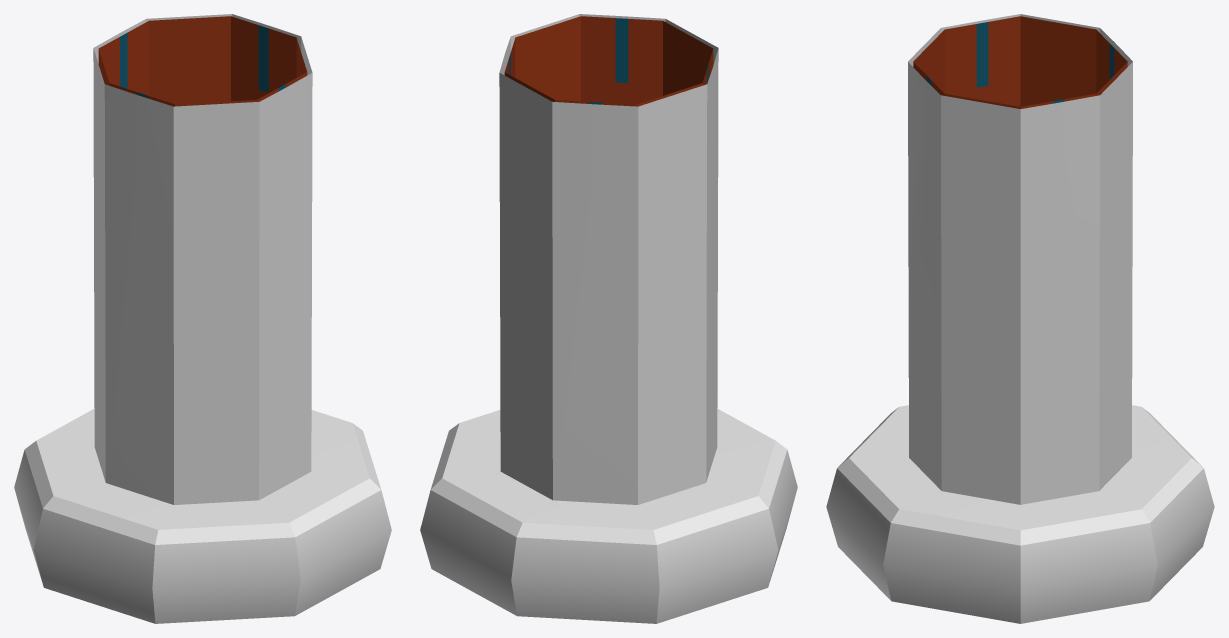
The model's file is Pilar_0A.fbx.
3 views of the same model, side by side, from view 1: azimuth 30°, elevation 25°; view 2: azimuth 150°, elevation 25°; view 3: azimuth 270°, elevation 25° (orthographic).
Visible parts, largest first — view 1: Pilar_0A; view 2: Pilar_0A; view 3: Pilar_0A.
Part boxes in pixels (bbox=[...]): Pilar_0A: bbox=[14, 14, 391, 623]; Pilar_0A: bbox=[420, 14, 797, 623]; Pilar_0A: bbox=[826, 14, 1214, 623].
Bounding box in the file's own units: 2.17 × 2.17 × 3.
